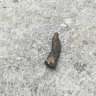Dog: (44, 31, 62, 69)
